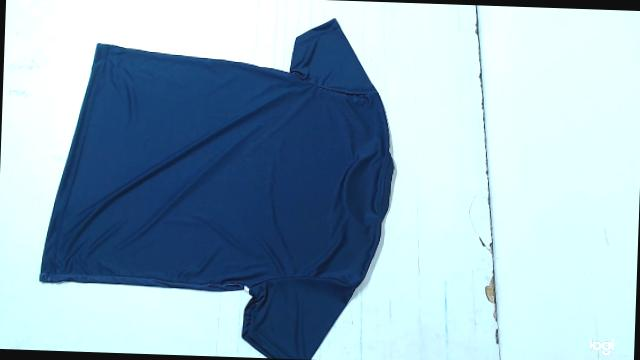new-garment: (39, 19, 393, 359)
